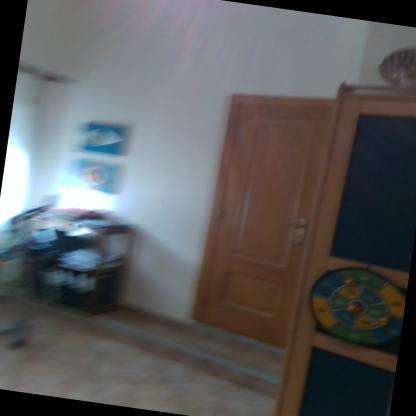closed: (180, 69, 335, 378)
